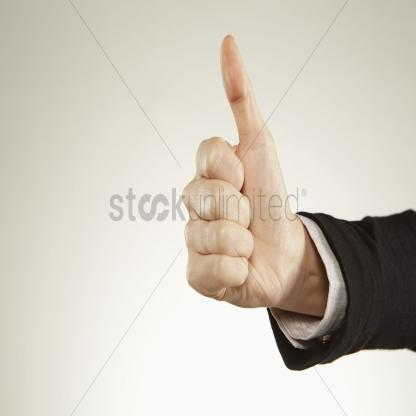Thumbs-Up: (165, 18, 330, 330)
